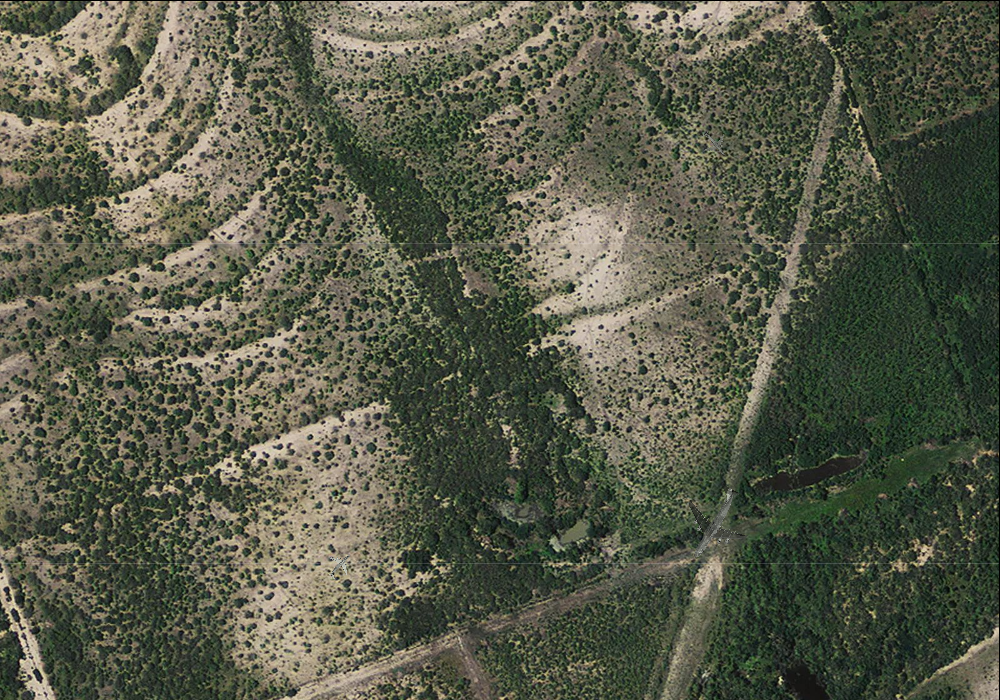plane: (660, 468, 767, 576), (693, 122, 735, 164), (320, 546, 360, 586)
